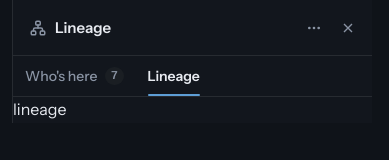
it: StudyRail › shows a tab strip with badges once two panels are resident and switches on click
Expected: the text "7" is shown, [105, 67, 124, 85]
What coordinates should you click on to do the following:
click the tab "Who's here 7"
I would click on:
 (74, 76)
Its box is [13, 56, 136, 96].
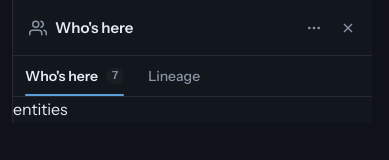
Expected: the text "entities" is shown, [13, 99, 68, 119]
Expected: the text with test id "panel" reads "entities", [13, 99, 68, 119]
